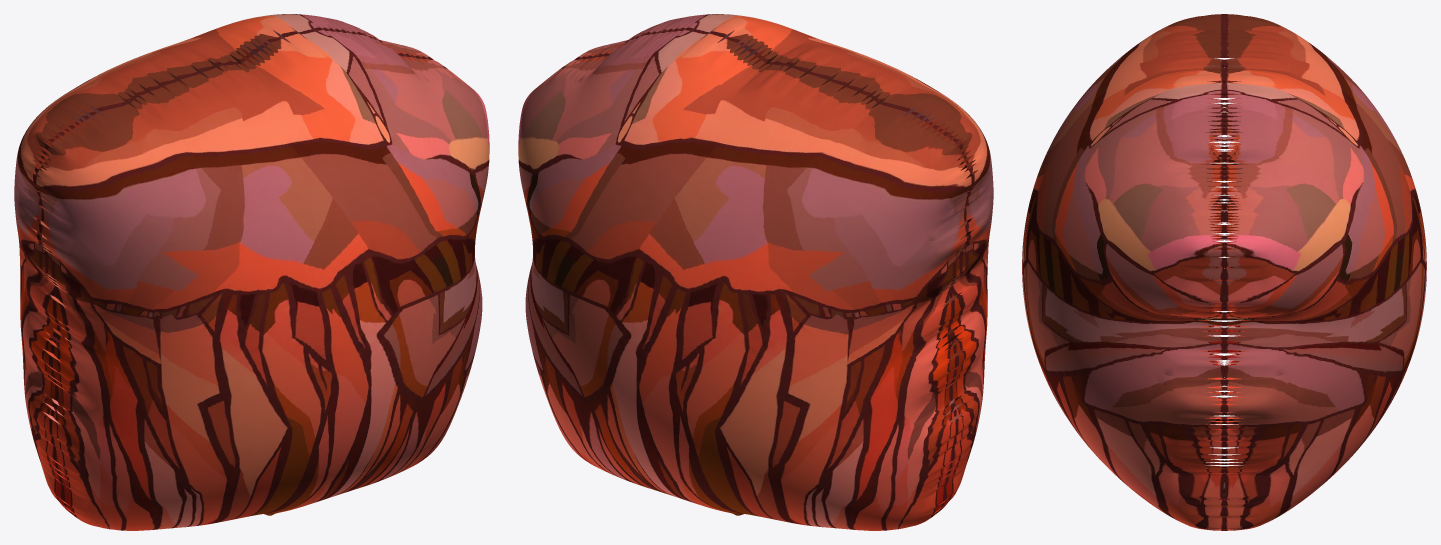
The model's file is west_cliff.glb.
The picture shows the model from 3 angles, left to right: view 1: azimuth 30°, elevation 25°; view 2: azimuth 150°, elevation 25°; view 3: azimuth 270°, elevation 25°; orthographic projection. The views are drawn at different scales.
Visible parts, largest first — view 1: west_cliff; view 2: west_cliff; view 3: west_cliff.
Part boxes in pixels (<box>): west_cliff: <box>14,14,489,530</box>; west_cliff: <box>518,14,993,530</box>; west_cliff: <box>1022,14,1426,530</box>.
Size of the model in its own units: 0.989 by 0.9671 by 0.8645.
Materials: 1 (1 with a texture image).
